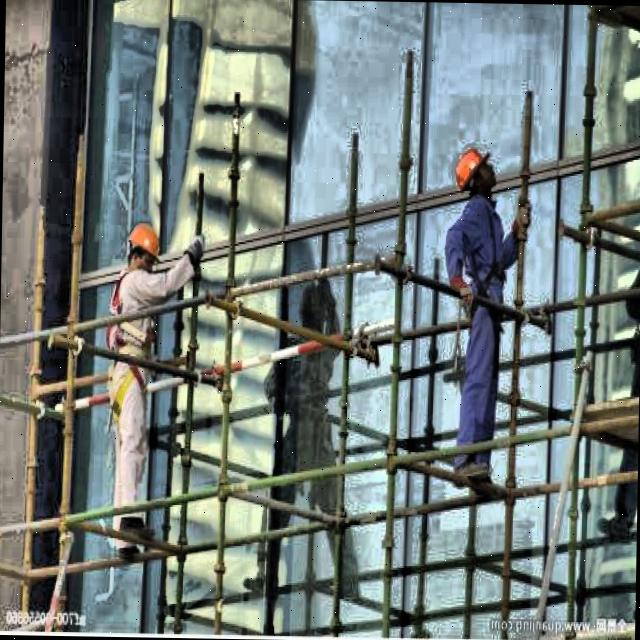helmet: (450, 144, 490, 198), (124, 222, 162, 278)
